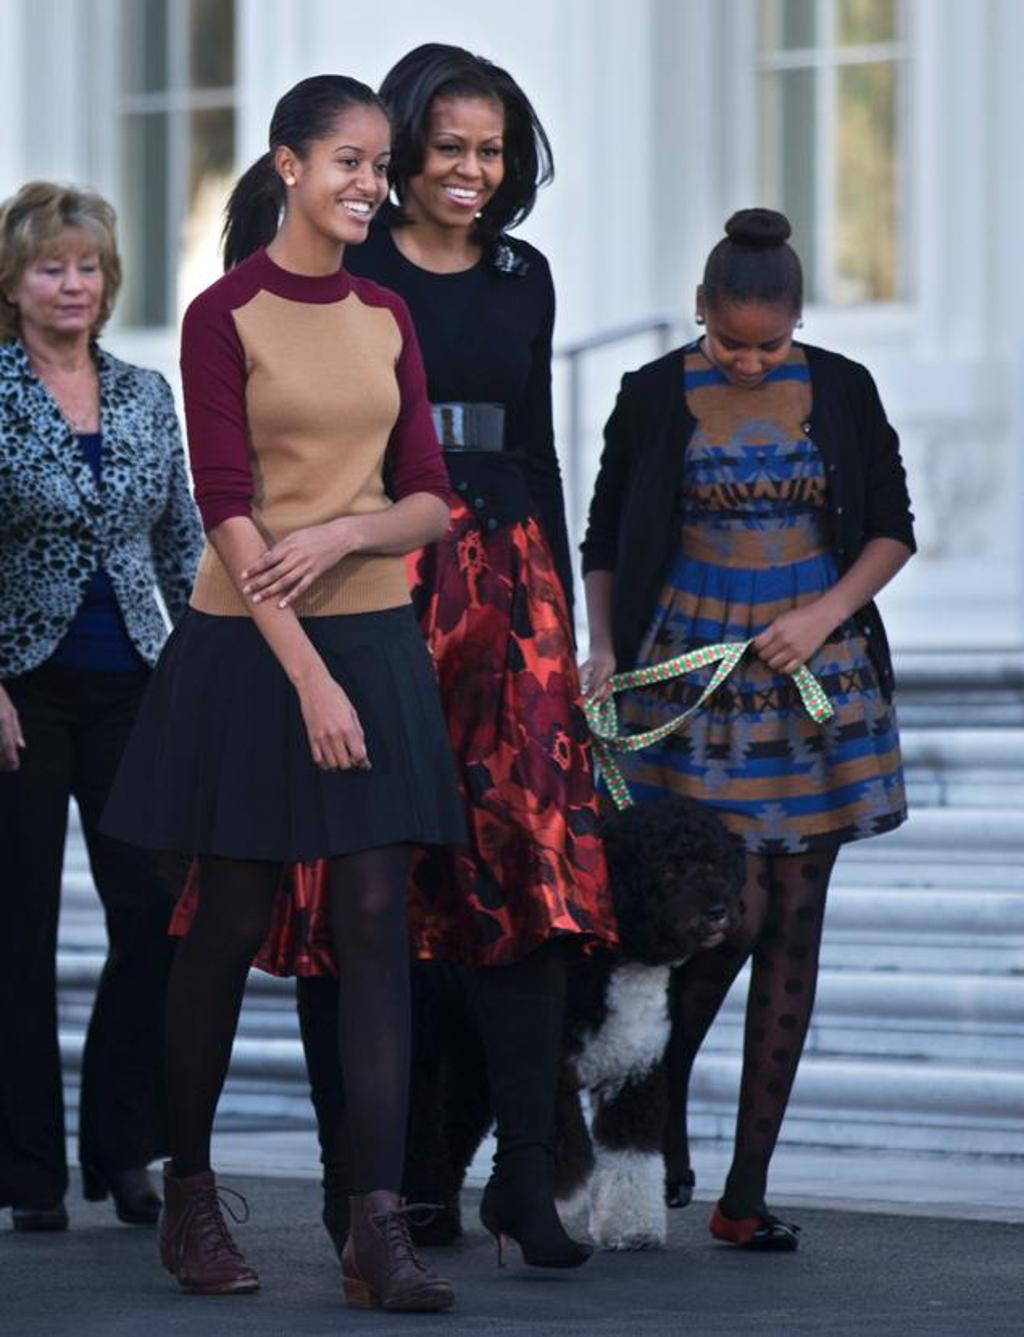face: (408, 86, 507, 222), (303, 104, 389, 245), (18, 219, 104, 334), (705, 295, 791, 384)
